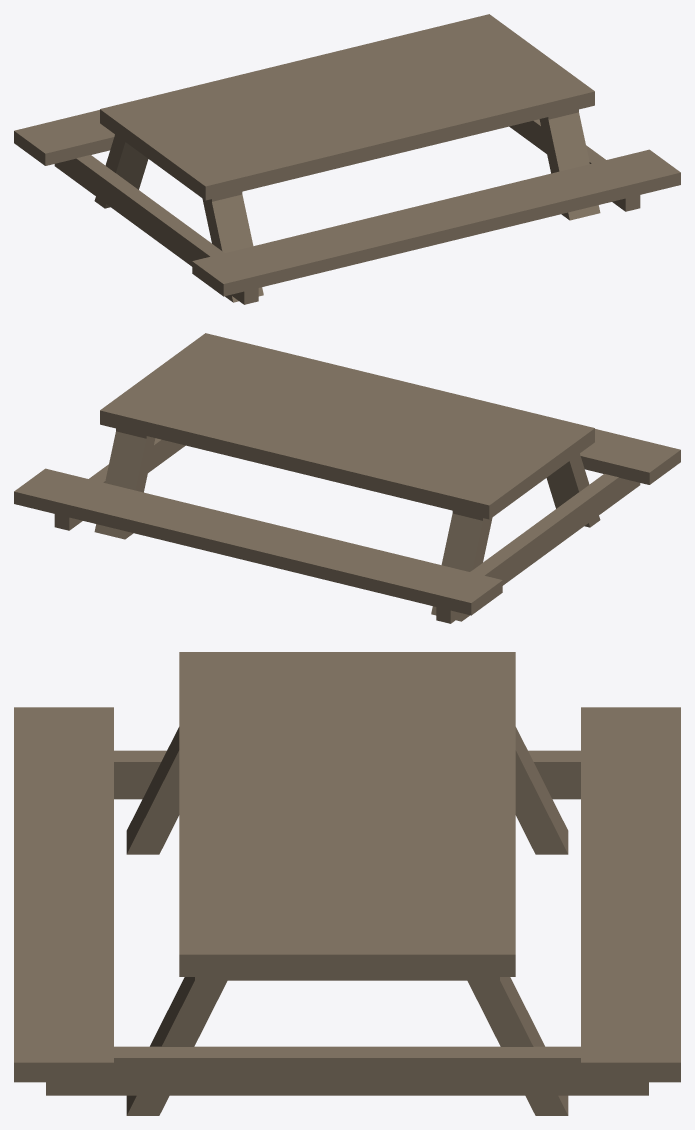
File: Bench.fbx
The picture shows the model from 3 angles, top to bottom: view 1: azimuth 30°, elevation 25°; view 2: azimuth 150°, elevation 25°; view 3: azimuth 270°, elevation 25°; orthographic projection. The views are drawn at different scales.
Parts seen in each view (by area): view 1: Bench.001; view 2: Bench.001; view 3: Bench.001.
Part boxes in pixels (left/top/right/bottom): Bench.001: left=14, top=14, right=680, bottom=304; Bench.001: left=14, top=333, right=680, bottom=623; Bench.001: left=14, top=652, right=680, bottom=1115.
Bounding box in the file's own units: 232 × 51.78 × 184.
